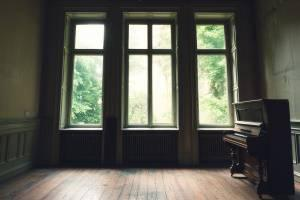window: (64, 9, 238, 129)
